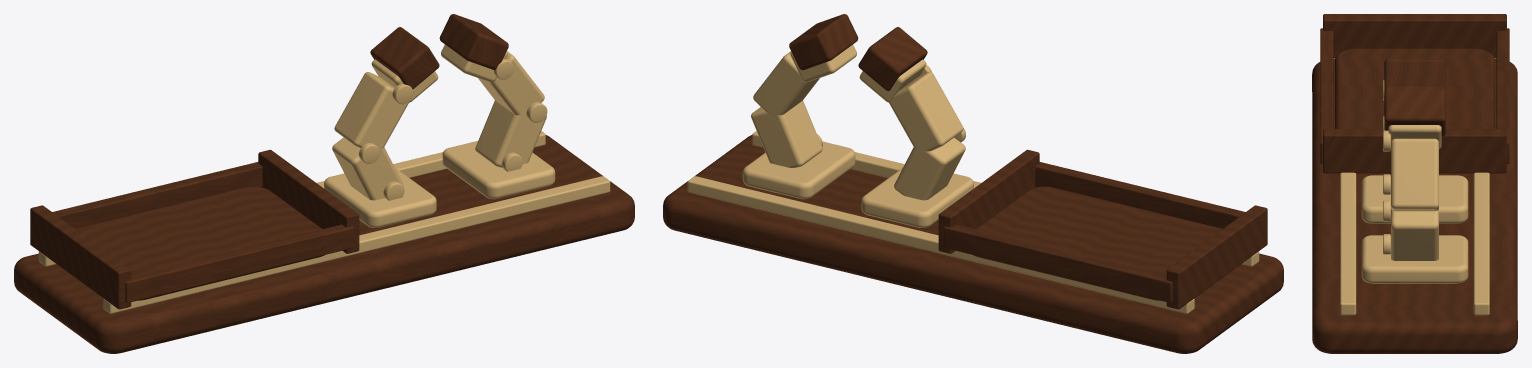
The model's file is cargo_art_07_loading_clamps.glb.
3 views of the same model, side by side, from view 1: azimuth 30°, elevation 25°; view 2: azimuth 150°, elevation 25°; view 3: azimuth 270°, elevation 25° (orthographic). The views are drawn at different scales.
Visible parts, largest first — view 1: foundation, tray_floor, slide_rail_0.025, tray_side_0.033, tray_end_-0.109, tray_side_-0.033, tray_end_-0.007, right_foot, left_upper, left_foot, right_lower, left_wood_pad (+6 smaller); view 2: foundation, tray_floor, slide_rail_-0.025, tray_side_-0.033, tray_end_-0.109, tray_side_0.033, tray_end_-0.007, left_upper, right_foot, left_foot, right_lower, left_lower (+6 smaller); view 3: foundation, tray_floor, tray_end_-0.109, tray_end_-0.007, right_foot, right_upper, left_foot, right_wood_pad, slide_rail_-0.025, slide_rail_0.025, right_lower, left_wood_pad (+4 smaller).
Boxes of the visible parts, x1,y1,x2,y2 form: foundation: (14, 135, 634, 353); tray_floor: (75, 186, 324, 300); slide_rail_0.025: (103, 176, 610, 313); tray_side_0.033: (125, 224, 353, 302); tray_end_-0.109: (30, 205, 131, 309); tray_side_-0.033: (52, 162, 262, 228); tray_end_-0.007: (258, 149, 359, 253); right_foot: (442, 141, 555, 199); left_upper: (334, 72, 408, 150); left_foot: (324, 168, 436, 227); right_lower: (475, 100, 546, 167); left_wood_pad: (370, 27, 439, 89); foundation: (663, 135, 1283, 353); tray_floor: (973, 186, 1222, 300); slide_rail_-0.025: (687, 176, 1194, 313); tray_side_-0.033: (944, 224, 1172, 302); tray_end_-0.109: (1166, 205, 1267, 309); tray_side_0.033: (1035, 162, 1245, 228); tray_end_-0.007: (938, 149, 1039, 253); left_upper: (889, 72, 963, 152); right_foot: (742, 141, 855, 199); left_foot: (861, 167, 973, 227); right_lower: (751, 100, 822, 167); left_lower: (894, 137, 965, 200); foundation: (1312, 58, 1517, 353); tray_floor: (1335, 48, 1494, 128); tray_end_-0.109: (1323, 14, 1506, 58); tray_end_-0.007: (1323, 129, 1506, 173); right_foot: (1361, 235, 1468, 283); right_upper: (1391, 138, 1438, 211); left_foot: (1361, 175, 1468, 223); right_wood_pad: (1384, 86, 1445, 136); slide_rail_-0.025: (1473, 172, 1489, 315); slide_rail_0.025: (1340, 172, 1356, 315); right_lower: (1391, 209, 1438, 260); left_wood_pad: (1384, 59, 1445, 88).
Bounding box in the file's own units: 0.24 × 0.0857 × 0.077.
2 materials, 1 textured.
